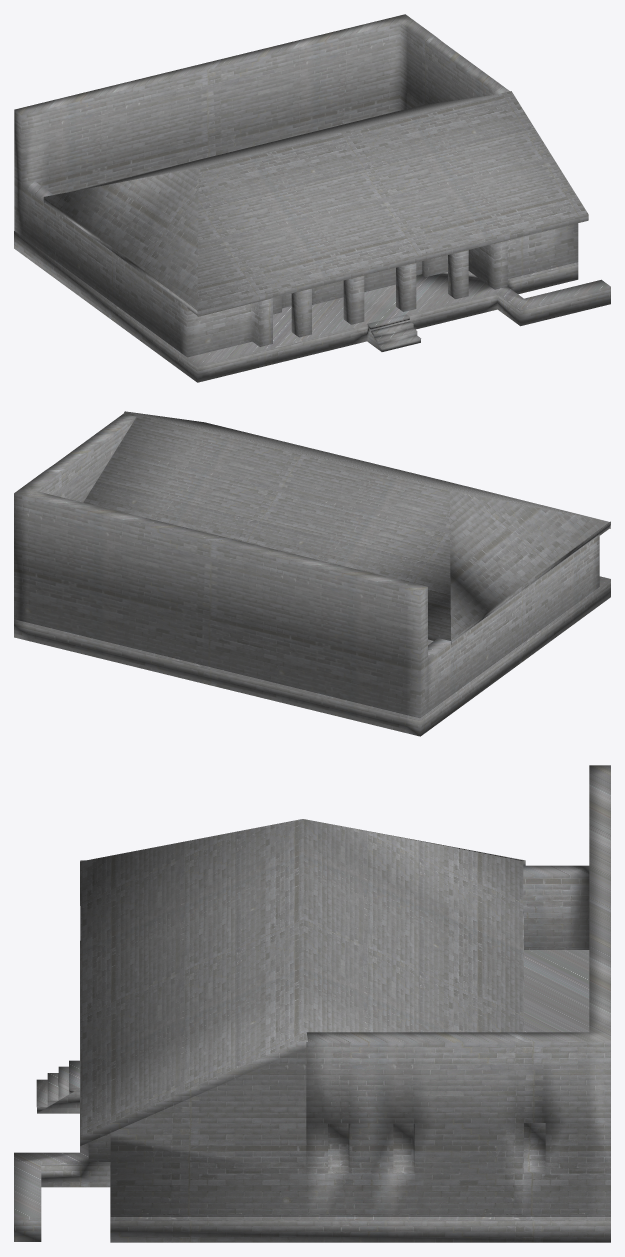
File: zzzzz.obj
The picture shows the model from 3 angles, top to bottom: view 1: azimuth 30°, elevation 25°; view 2: azimuth 150°, elevation 25°; view 3: azimuth 270°, elevation 25°; orthographic projection. The views are drawn at different scales.
Visible parts, largest first — view 1: Plane001; view 2: Plane001; view 3: Plane001.
Boxes of the visible parts, <box> form: Plane001: <box>14,14,610,382</box>; Plane001: <box>14,411,610,736</box>; Plane001: <box>14,765,610,1242</box>.
Bounding box in the file's own units: 323 × 110 × 294.
Materials: 1 (1 with a texture image).
